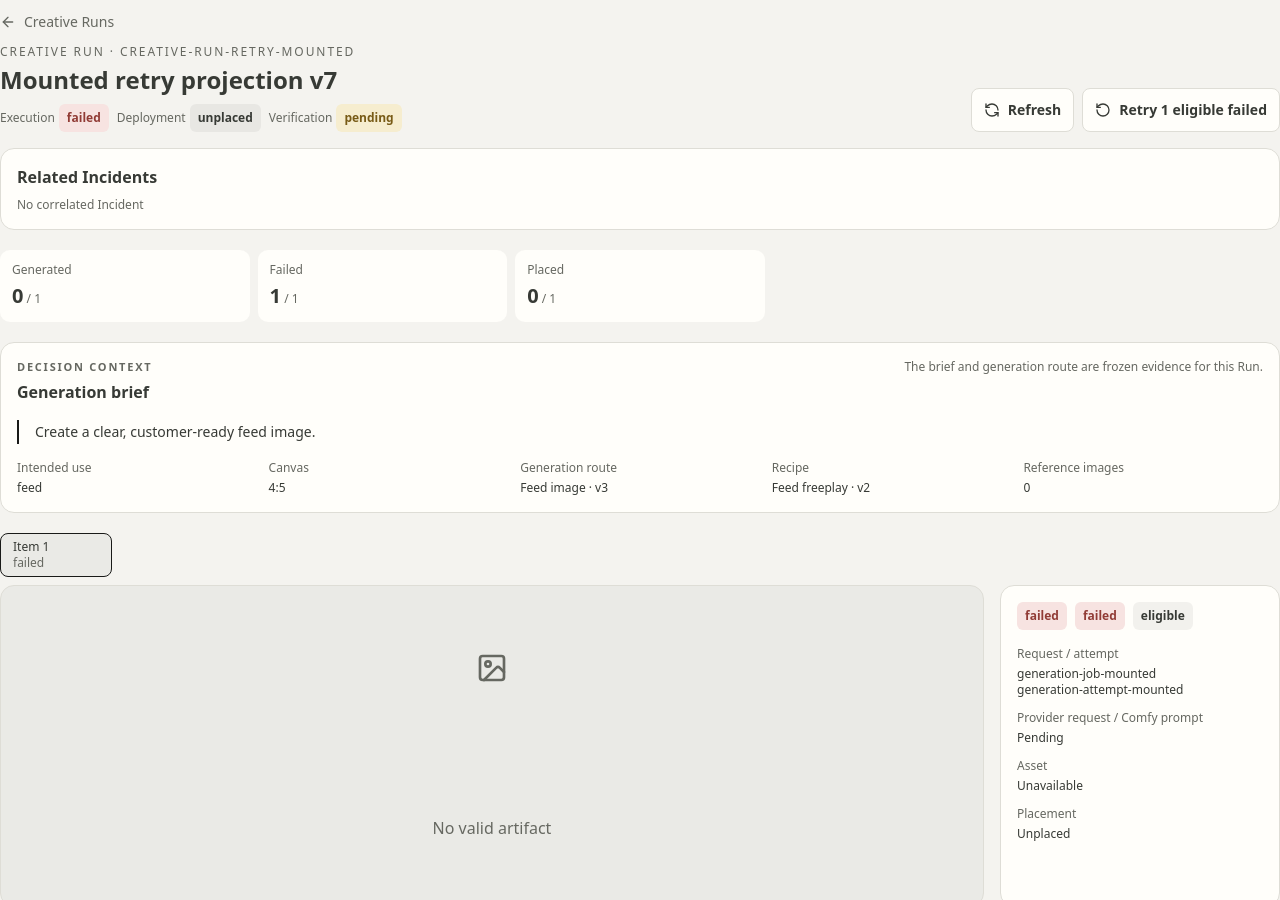
Scenario: Creative Run asynchronous retry command › retains a succeeded receipt and disables business retry until an explicit projection refresh succeeds
Click the button "Retry 1 eligible failed": x=1181, y=110 [1082,88,1279,132]
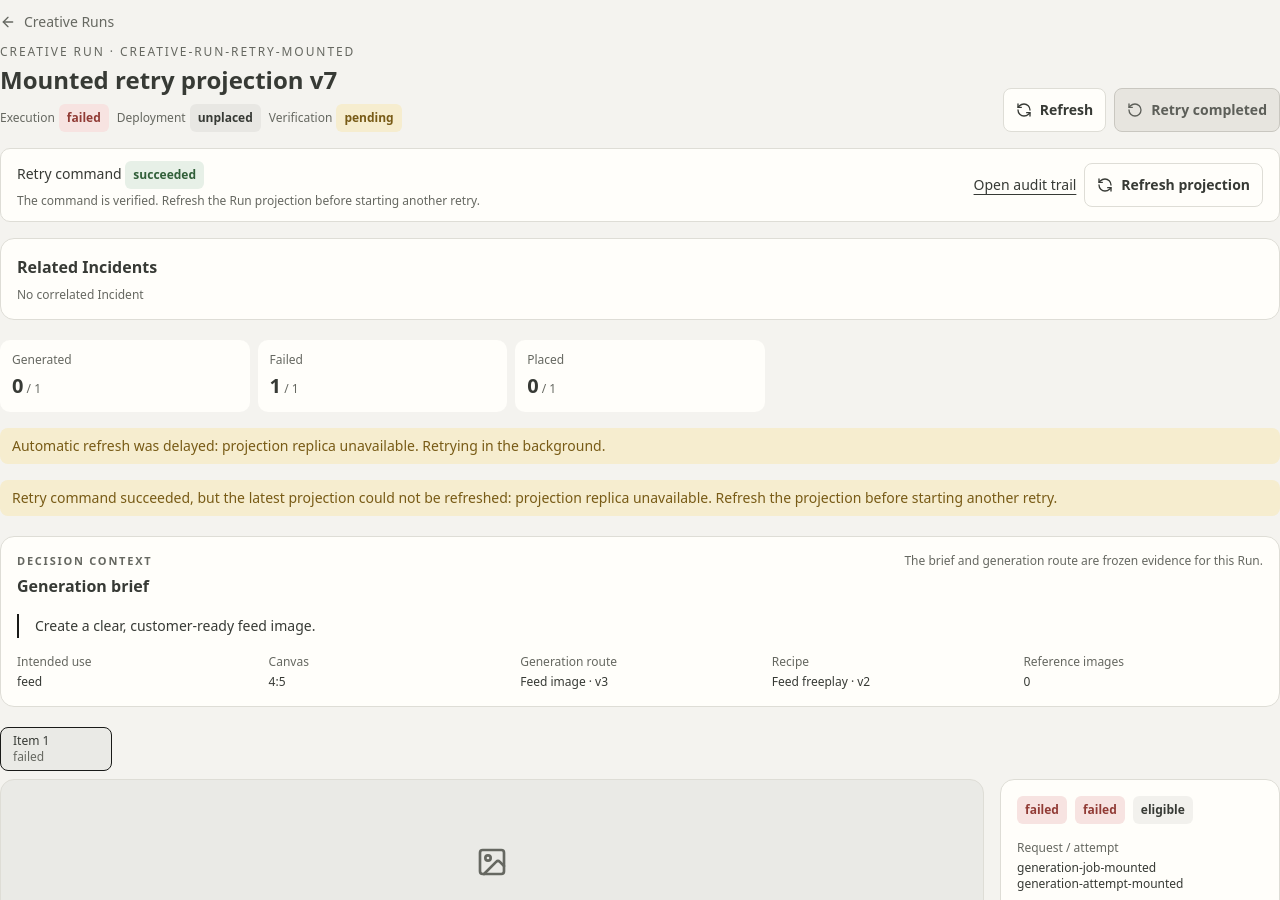
Result: the text "Retry command succeeded, but the latest projection could not be refreshed" is shown at [12,488,1057,507]
Result: the button "Retry completed" is disabled at [1114,88,1279,132]
Result: the link to "/admin/audit?commandId=retry-command-projection-gap" is shown at [974,175,1076,194]
Click the button "Refresh projection": x=1174, y=185 [1084,163,1263,207]
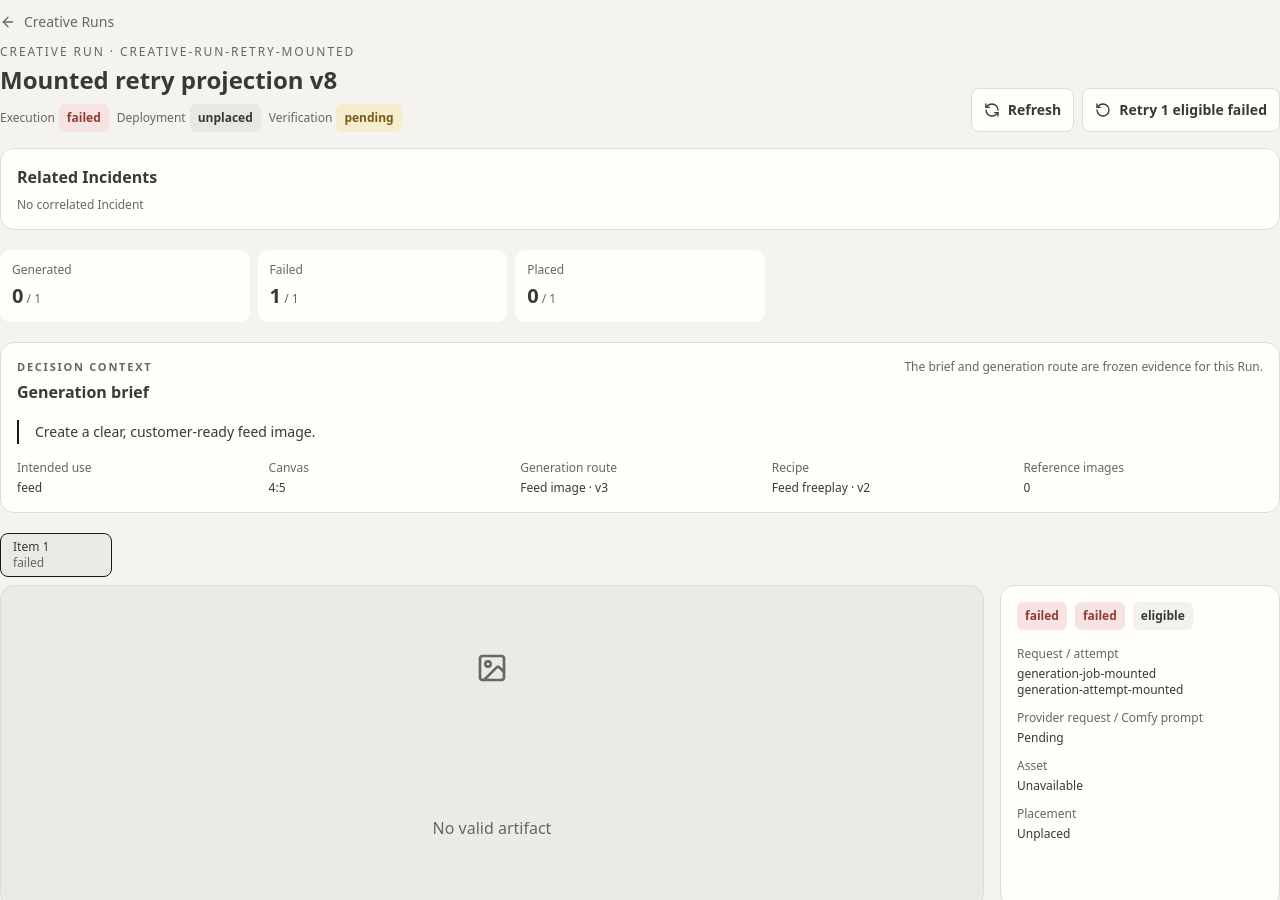
Result: the text "Mounted retry projection v8" is shown at [0,63,337,96]
Result: the button "Retry 1 eligible failed" is enabled at [1082,88,1279,132]
